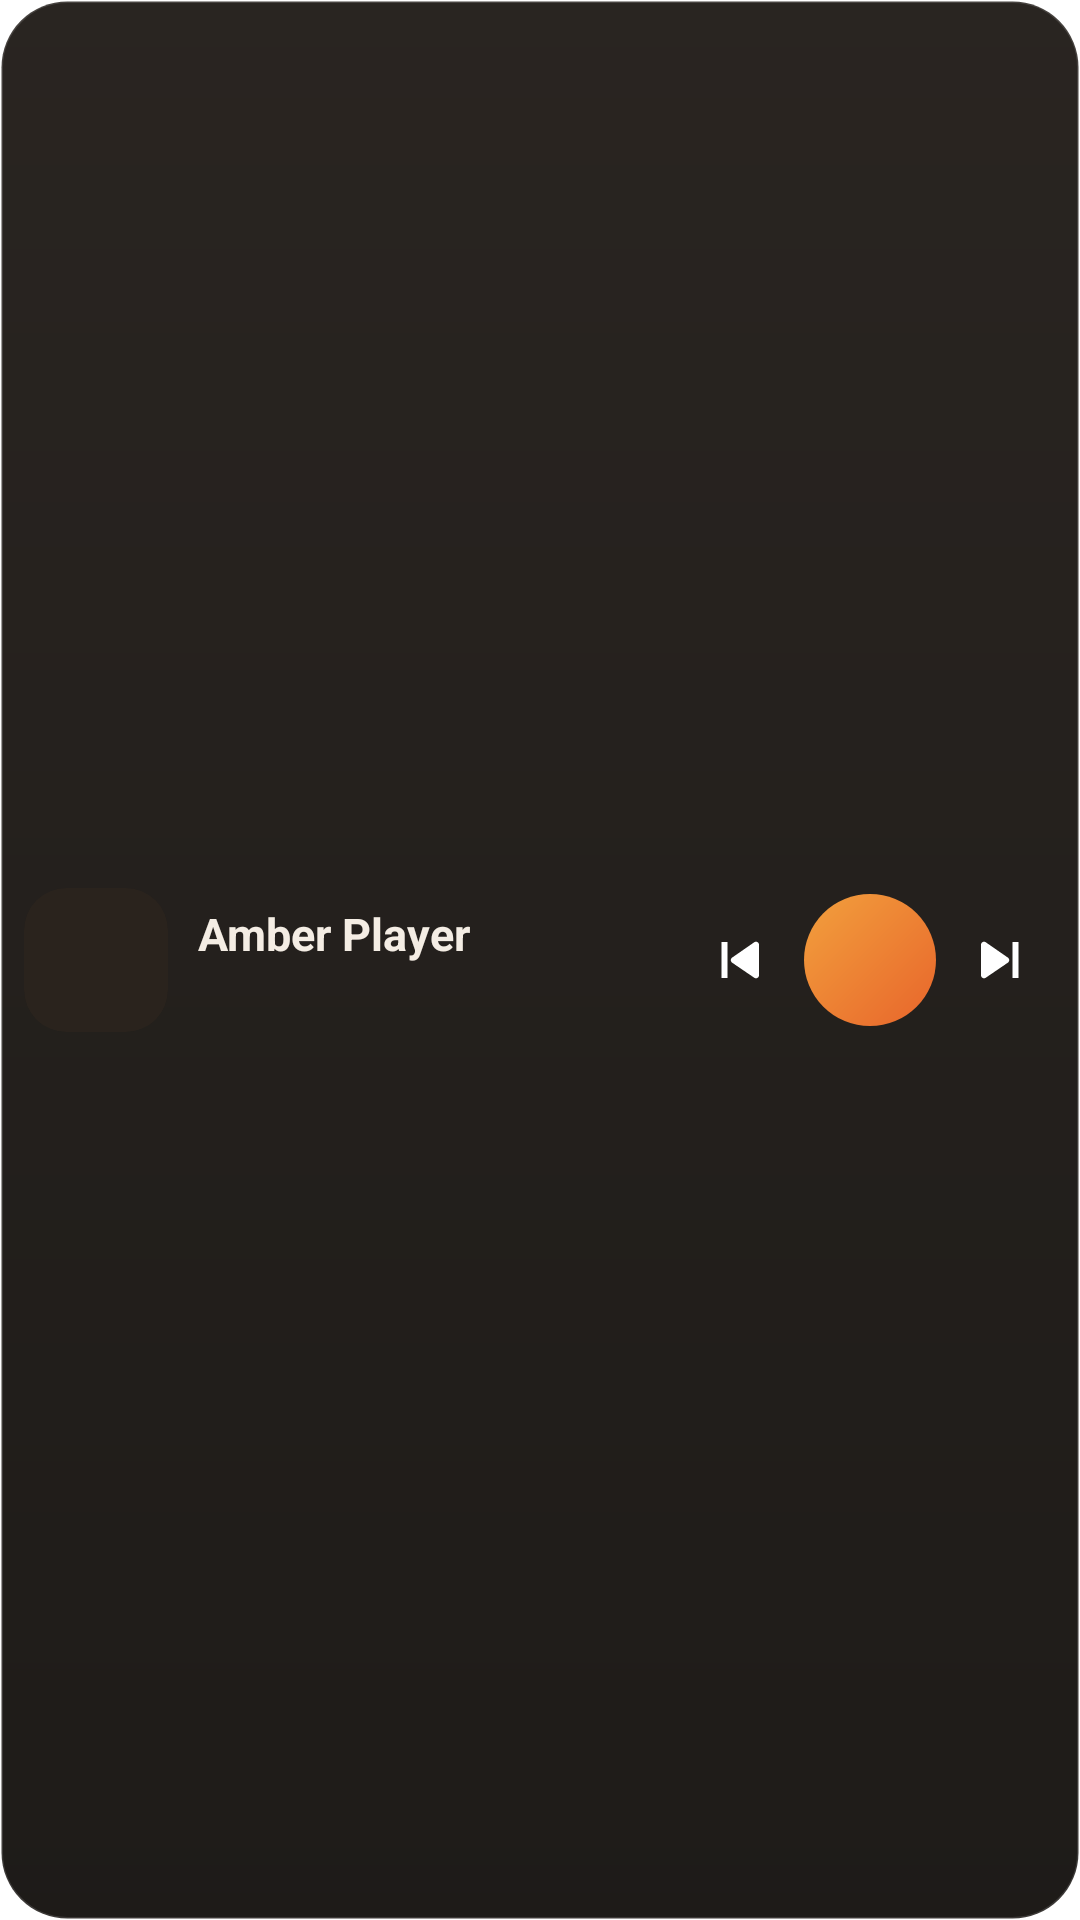

Locate icon controls on the screen. Image size 1080x1920, boxes as BBox(x1, y1, x2, y2).
Next: BBox(981, 941, 1019, 979)
Previous: BBox(721, 941, 759, 979)
